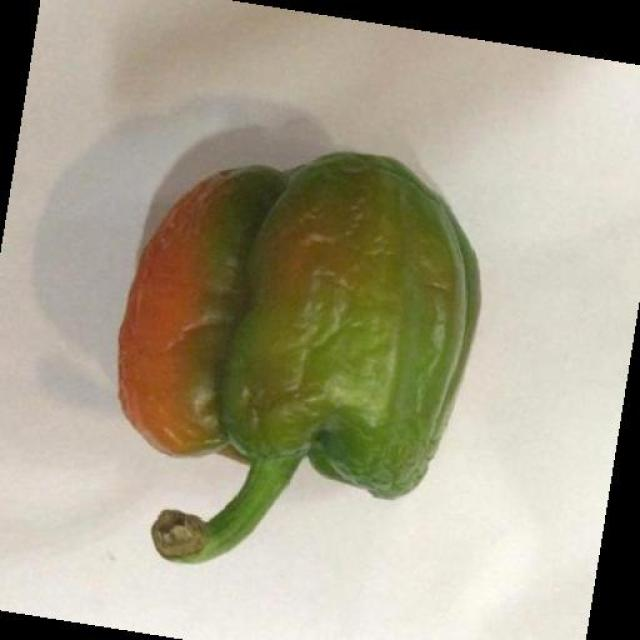Stale_Capsicum: (119, 130, 547, 560)
